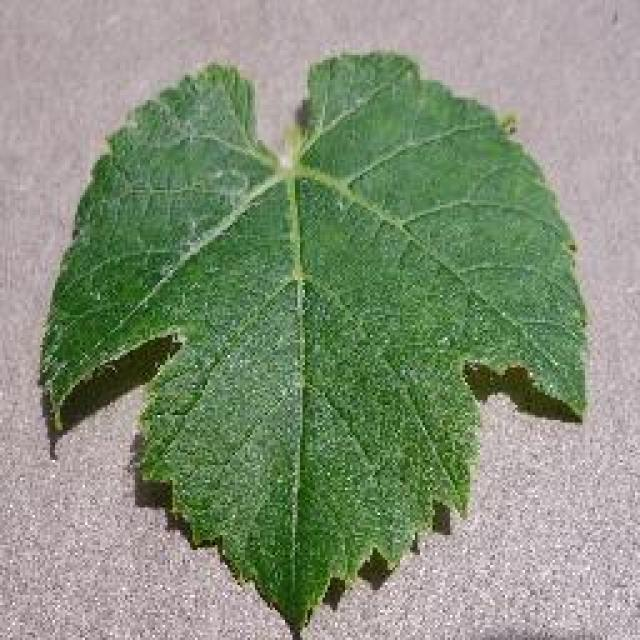Grape___healthy: (38, 47, 593, 637)
